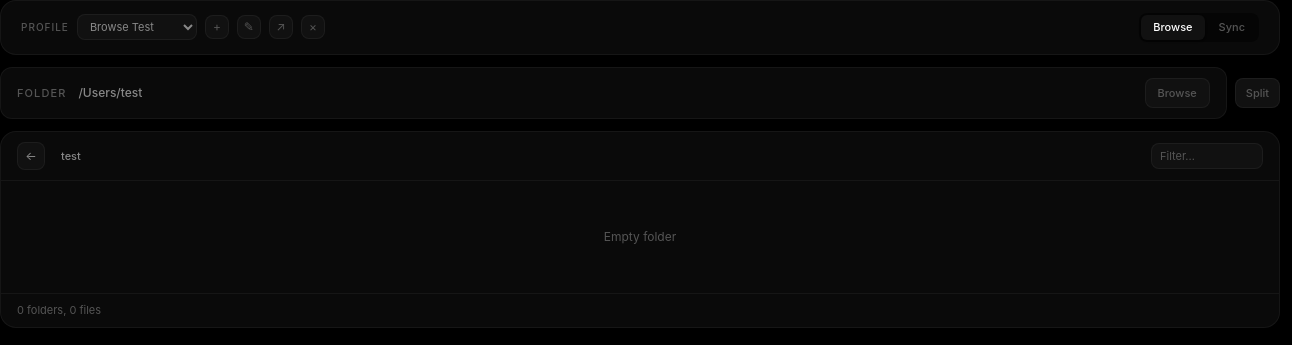
FileManager › discard restores saved profile state and mode
Expected: the text "/Users/test" is shown, [78,85,142,100]
Note: Switch to sync (makes dirty)
What coordinates should you click on to do the following:
click the button "Sync"
I would click on:
 (1232, 27)
Its box is [1207,15,1257,40].
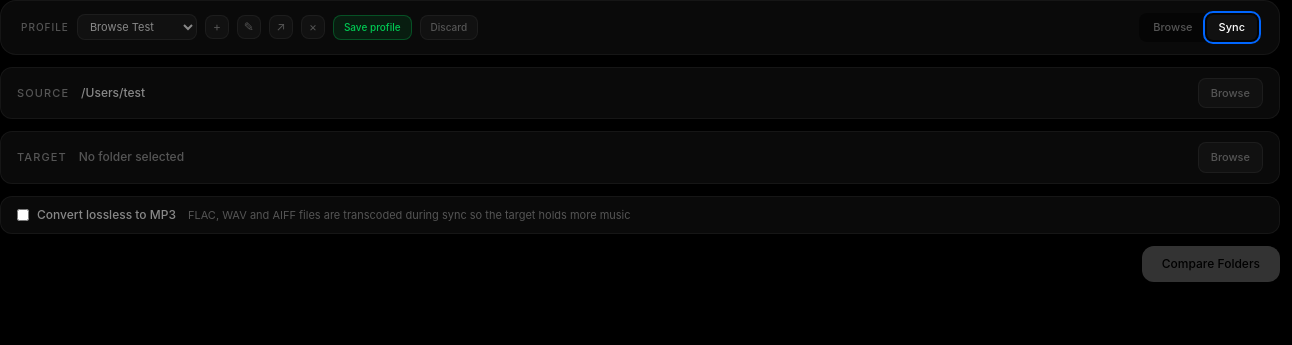
Expected: the text "Source" is shown, [17,84,69,101]
What coordinates should you click on to do the following:
click the button "Discard"
I would click on:
 (449, 27)
Its box is [420,15,478,40].
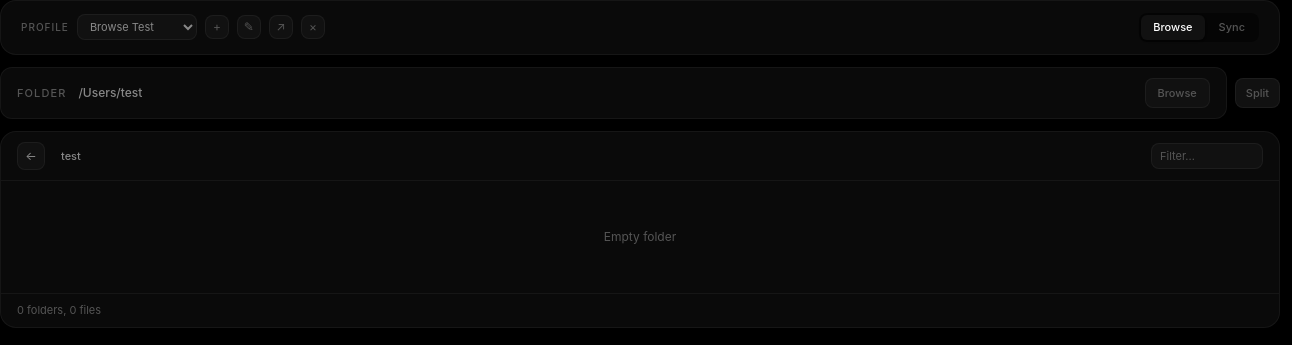
Expected: the text "/Users/test" is shown, [78,85,142,100]
Expected: the text "Source" is gone
